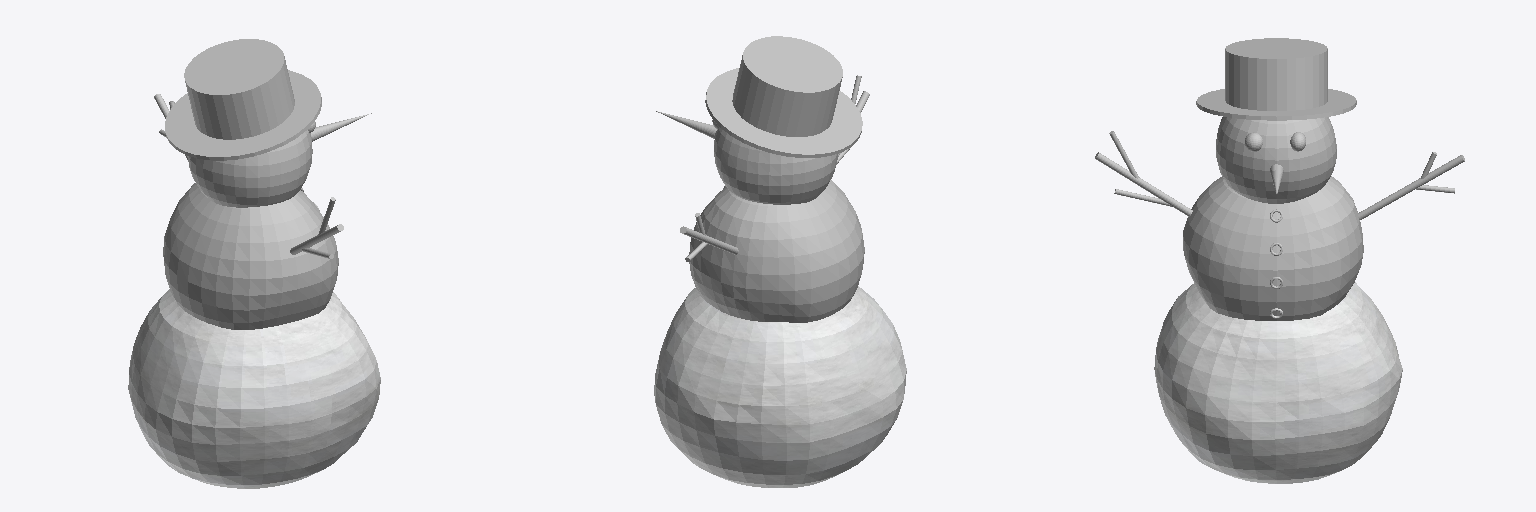
3 views of the same model, side by side, from view 1: azimuth 30°, elevation 25°; view 2: azimuth 150°, elevation 25°; view 3: azimuth 270°, elevation 25° (orthographic).
Parts seen in each view (by area): view 1: Sphere, Sphere.001, Cylinder.001, Sphere.002, Cylinder; view 2: Sphere, Sphere.001, Cylinder.001, Sphere.002, Cylinder; view 3: Sphere, Sphere.001, Sphere.002, Cylinder.001, Cylinder, Cylinder.002, Cylinder.006.
Part boxes in pixels (x1,y1,x2,y2): Sphere: (128,289,380,488); Sphere.001: (163,183,338,329); Cylinder.001: (184,39,294,139); Sphere.002: (188,130,312,207); Cylinder: (165,70,321,160); Sphere: (654,286,906,487); Sphere.001: (689,180,864,322); Cylinder.001: (732,36,842,136); Sphere.002: (714,127,837,204); Cylinder: (705,68,862,157); Sphere: (1154,282,1402,483); Sphere.001: (1183,176,1363,320); Sphere.002: (1216,117,1336,203); Cylinder.001: (1225,38,1327,110); Cylinder: (1196,89,1356,120); Cylinder.002: (1358,155,1464,219); Cylinder.006: (1095,152,1192,216).
Size of the model in its own units: 2.48 by 4.27 by 3.47.
Materials: 9 (1 with a texture image).